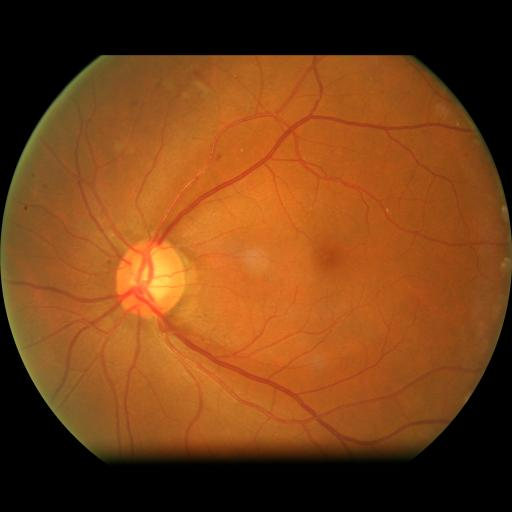Optic Cup: (131, 253, 171, 302)
Optic Disc: (116, 239, 186, 318)
